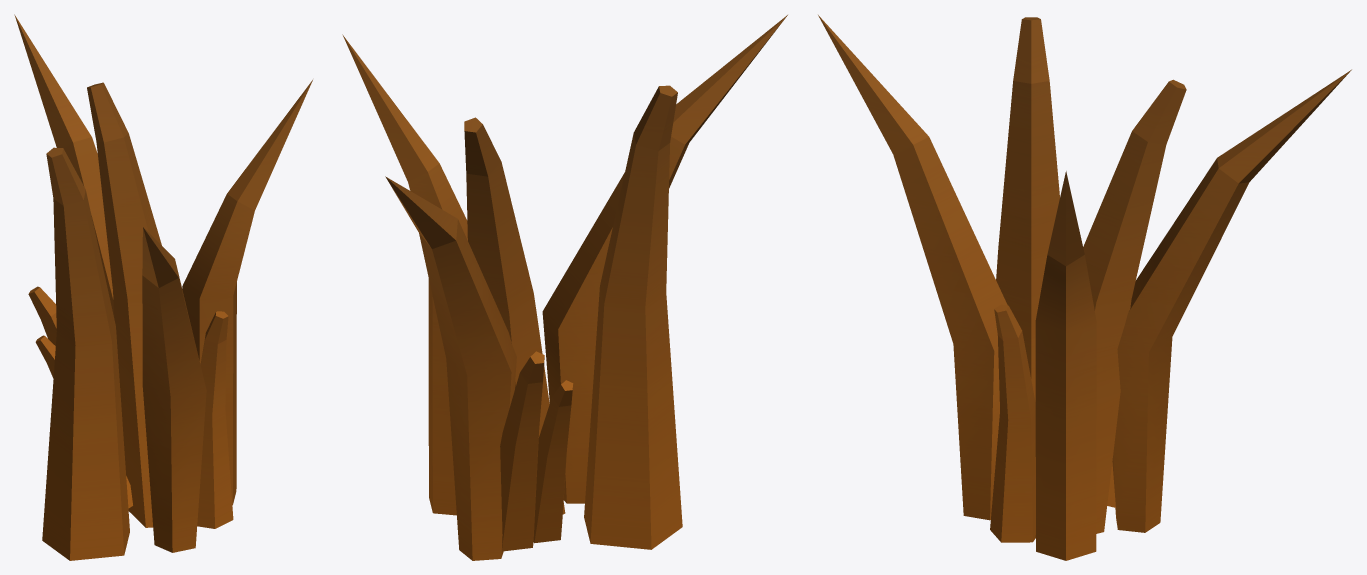
File: hierba9.fbx
3 renders of one model, left to right at view 1: azimuth 30°, elevation 25°; view 2: azimuth 150°, elevation 25°; view 3: azimuth 270°, elevation 25°, orthographic. The views are drawn at different scales.
Visible parts, largest first — view 1: hierba9; view 2: hierba9; view 3: hierba9.
Part boxes in pixels (x1,y1,x2,y2): hierba9: (14,14,312,560); hierba9: (342,15,787,560); hierba9: (818,15,1351,560).
Size of the model in its own units: 142 by 195 by 211.
